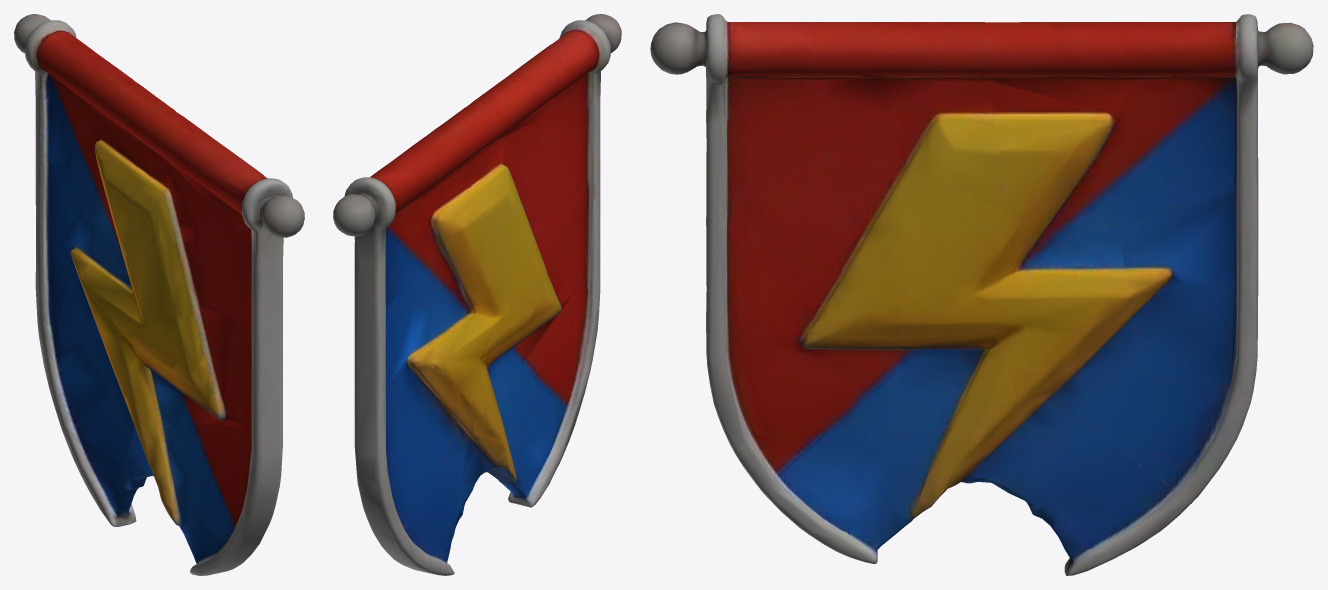
File: guild_banner_electrical.glb
The picture shows the model from 3 angles, left to right: view 1: azimuth 30°, elevation 25°; view 2: azimuth 150°, elevation 25°; view 3: azimuth 270°, elevation 25°; orthographic projection. The views are drawn at different scales.
Parts seen in each view (by area): view 1: tripo_node_c63342b4-3015-4b60-a2b1-adcc6eee1151; view 2: tripo_node_c63342b4-3015-4b60-a2b1-adcc6eee1151; view 3: tripo_node_c63342b4-3015-4b60-a2b1-adcc6eee1151.
Boxes of the visible parts, left/top/right/bottom form: tripo_node_c63342b4-3015-4b60-a2b1-adcc6eee1151: left=14, top=14, right=304, bottom=575; tripo_node_c63342b4-3015-4b60-a2b1-adcc6eee1151: left=333, top=14, right=621, bottom=575; tripo_node_c63342b4-3015-4b60-a2b1-adcc6eee1151: left=650, top=14, right=1313, bottom=575.
Size of the model in its own units: 0.0999 by 0.8719 by 0.9475.
1 material, 1 textured.
